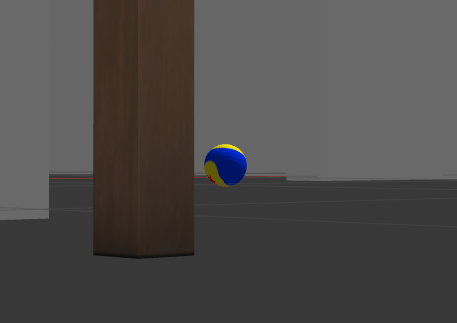toy story ball: (203, 144, 248, 188)
